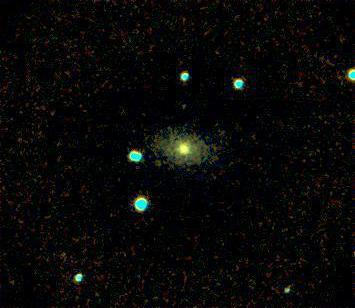star: (275, 273, 305, 303)
